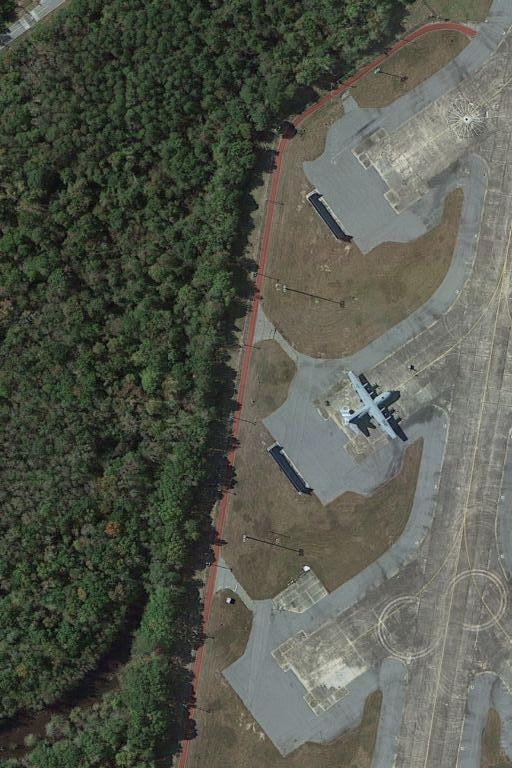C-130: (337, 365, 403, 443)
